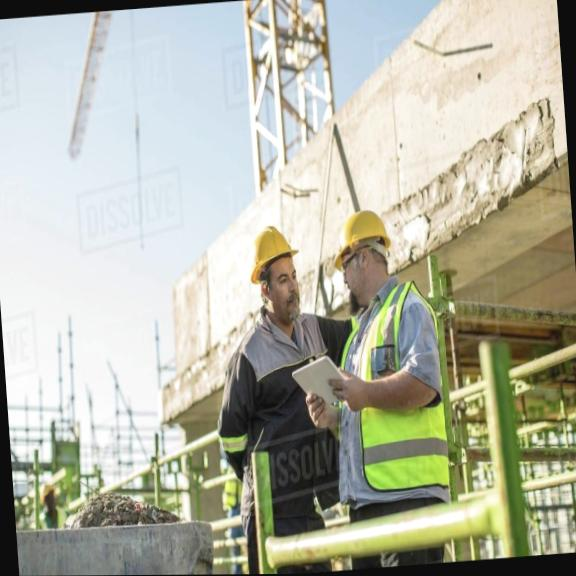no_safety_vest: (229, 308, 342, 517)
safety_vest: (342, 289, 457, 484)
